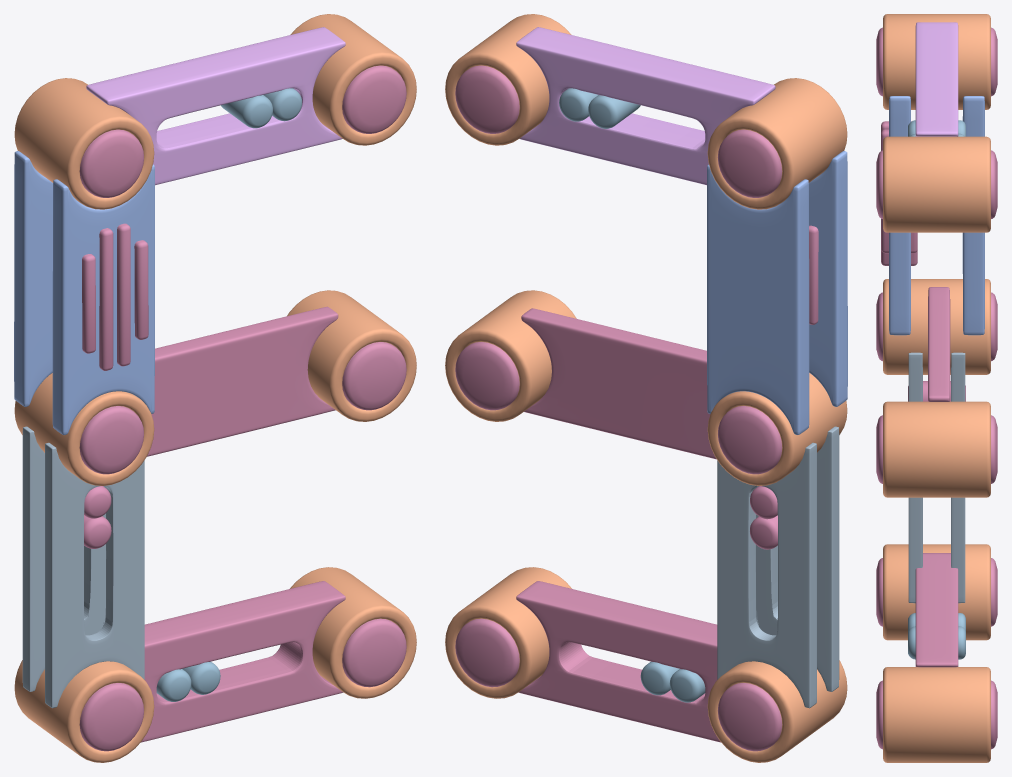
The picture shows the model from 3 angles, left to right: view 1: azimuth 30°, elevation 25°; view 2: azimuth 150°, elevation 25°; view 3: azimuth 270°, elevation 25°; orthographic projection. The views are drawn at different scales.
Parts seen in each view (by area): view 1: Cube.065; view 2: Cube.065; view 3: Cube.065.
Part boxes in pixels (x1,y1,x2,y2): Cube.065: (14, 14, 416, 762); Cube.065: (445, 14, 847, 762); Cube.065: (876, 14, 997, 762).
Size of the model in its own units: 1.87 by 3.3 by 0.5799.
